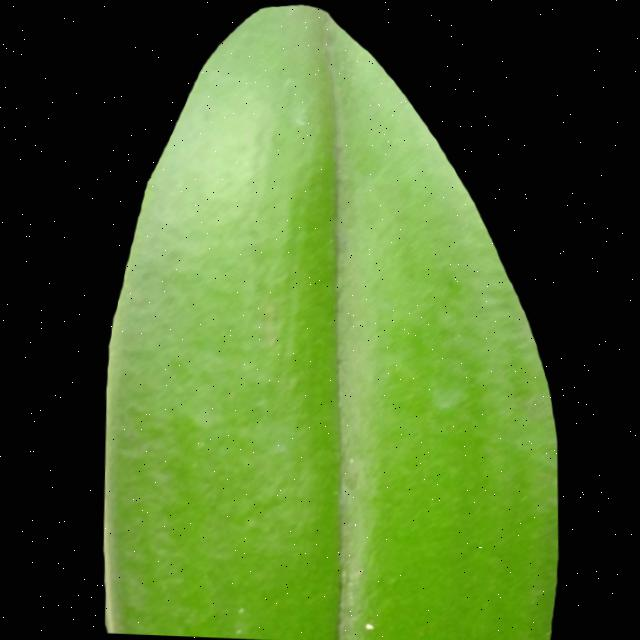mite: (224, 601, 379, 640), (427, 373, 469, 413), (220, 594, 254, 639), (345, 606, 388, 640), (227, 601, 247, 637), (355, 614, 377, 636), (229, 601, 246, 617), (341, 450, 356, 468), (360, 619, 371, 632), (230, 623, 240, 636), (233, 604, 243, 614), (344, 454, 352, 465)
spots: (97, 1, 563, 640)
